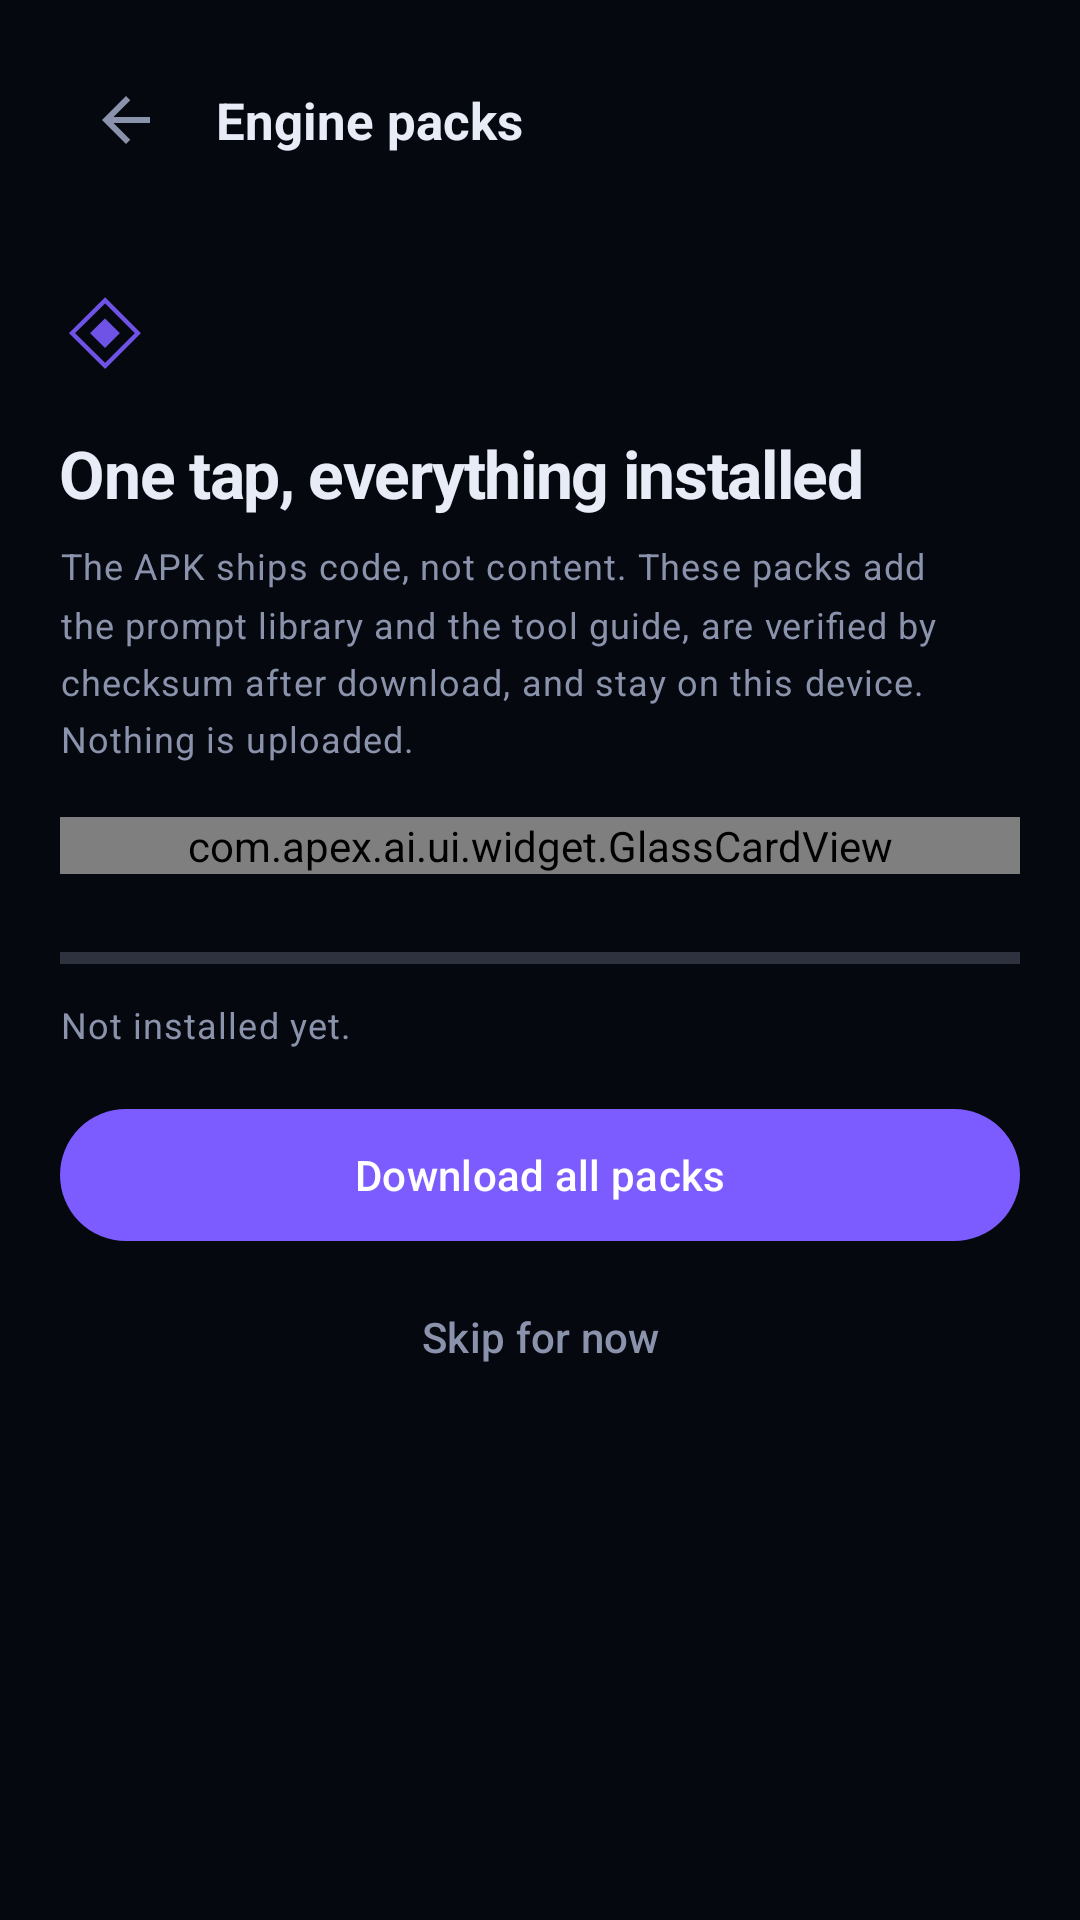

Screen size 1080x1920. Icon name, then its center in pixels as [x,y]:
Back: [126,120]
